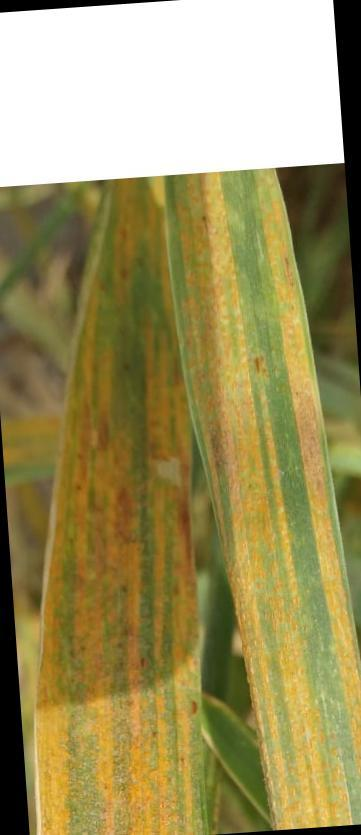Wheat: (177, 196, 348, 818), (54, 404, 195, 835)
